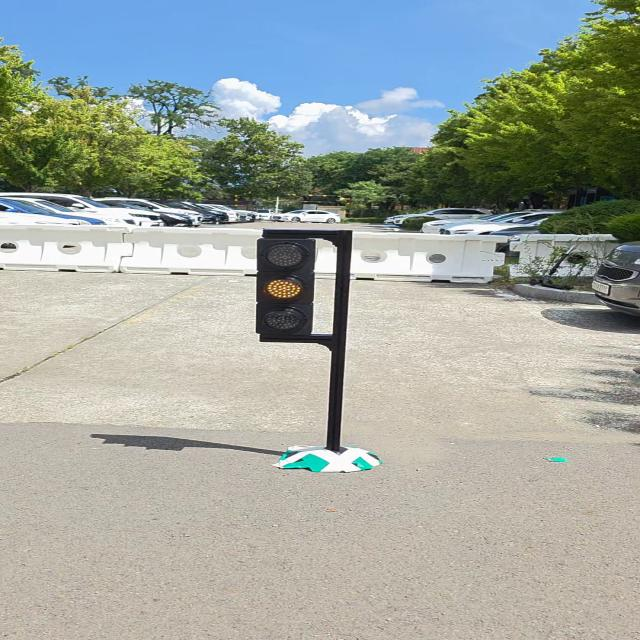yellow: (255, 239, 312, 337)
